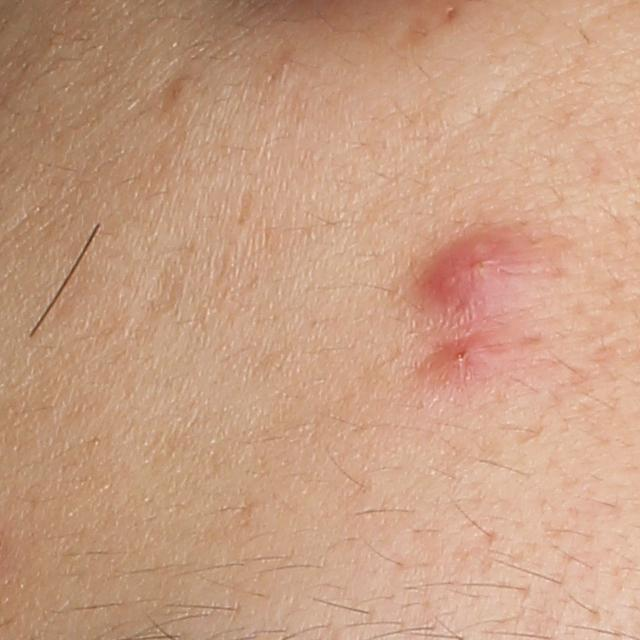papule: (413, 221, 541, 317)
